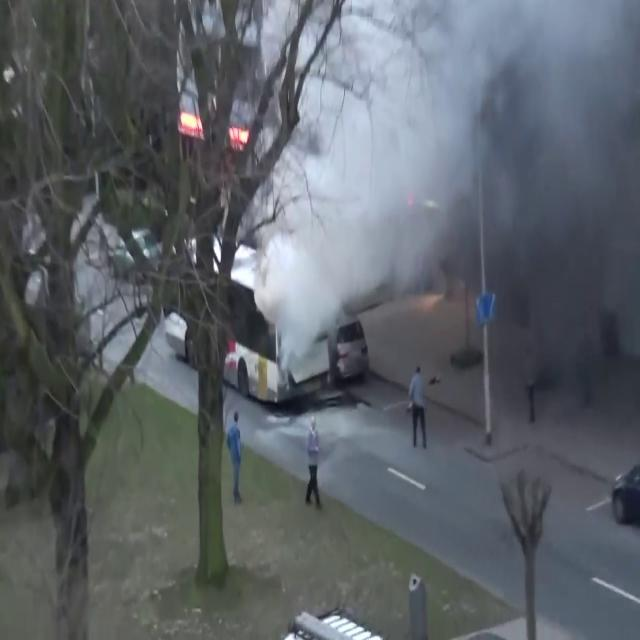Smoke: (260, 1, 640, 396)
